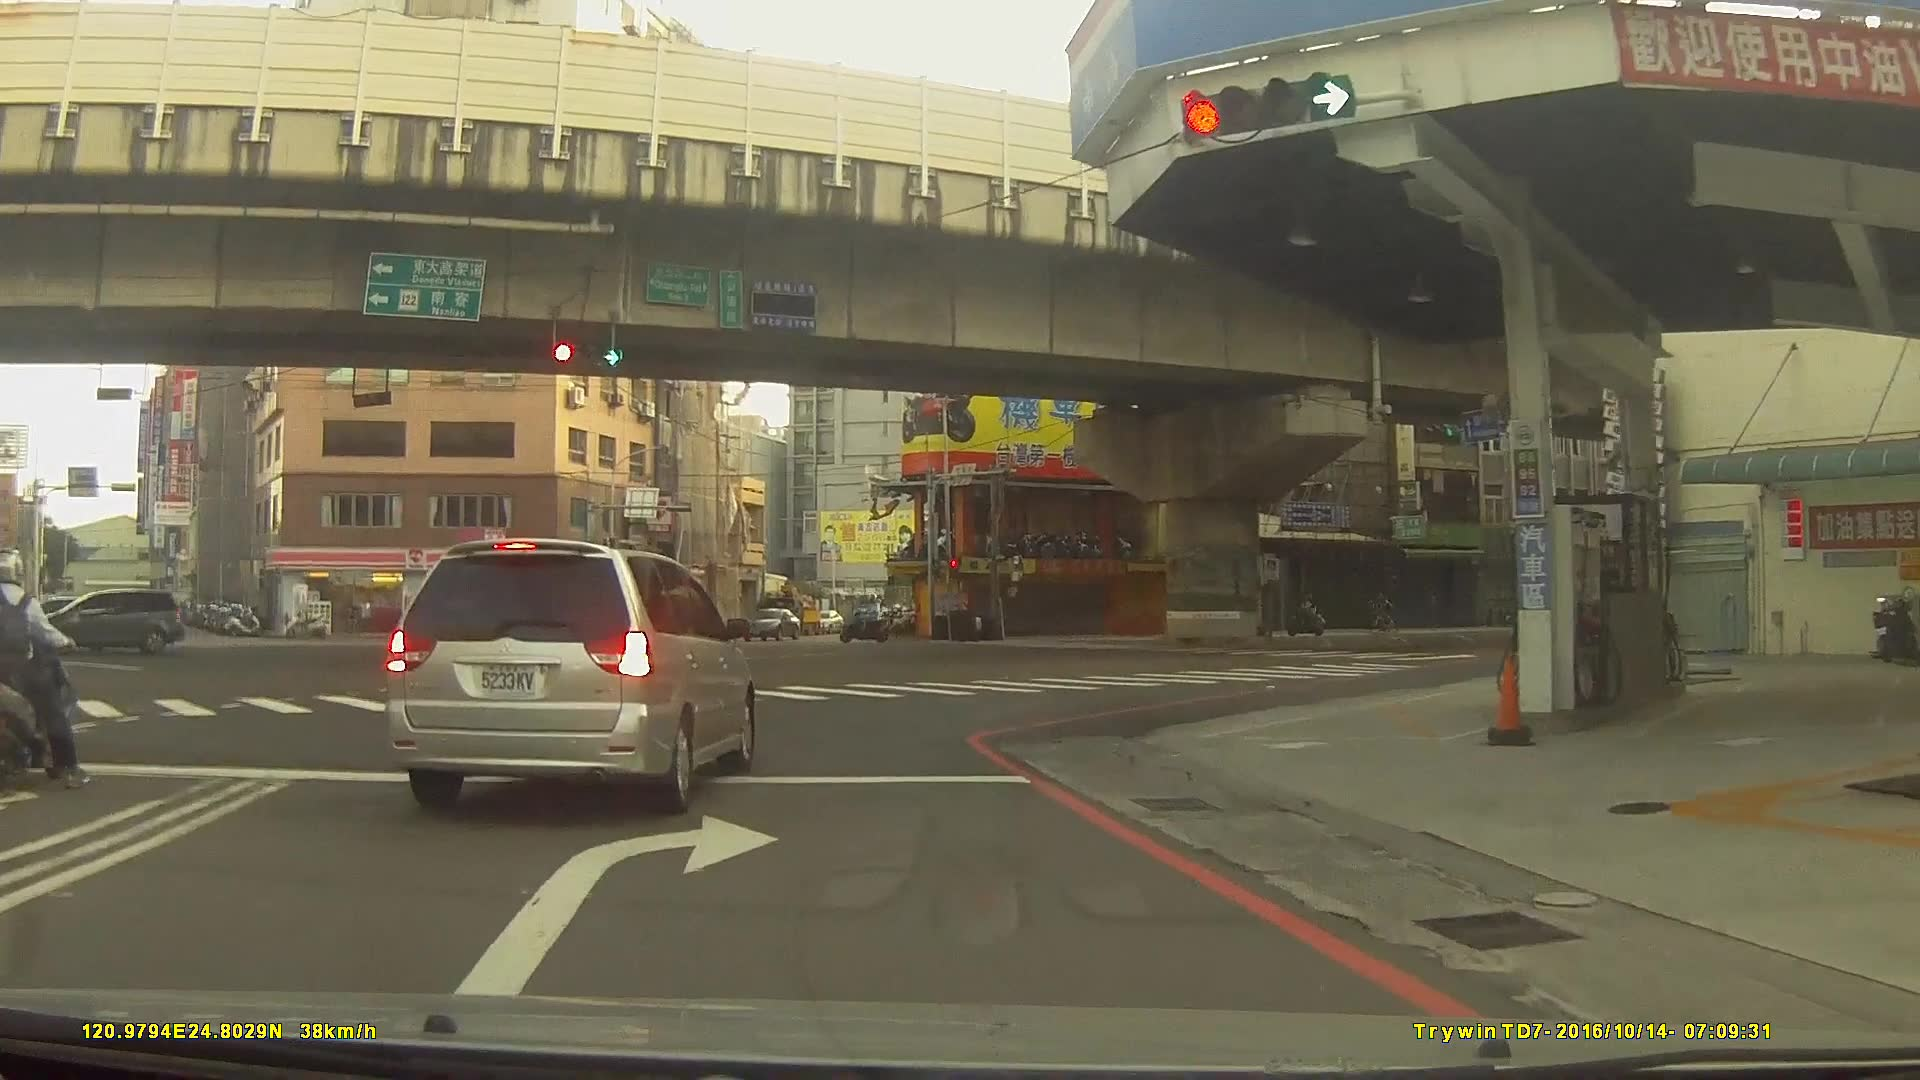rider: (1, 549, 104, 791), (842, 598, 891, 646)
vehicle: (382, 536, 754, 816), (30, 586, 183, 655), (744, 606, 802, 640), (543, 606, 605, 633)
